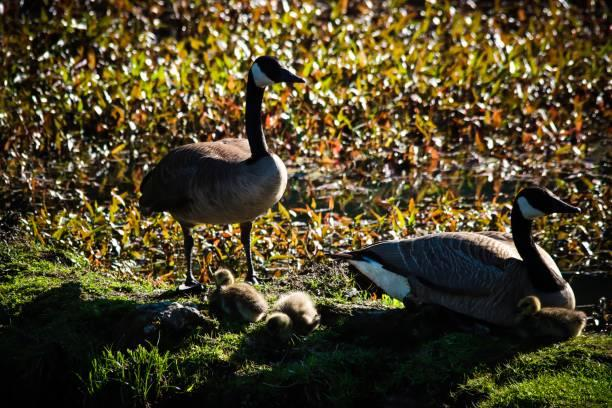Canadian-Goose: (137, 56, 306, 274), (338, 181, 592, 314), (509, 295, 589, 343), (265, 289, 323, 347), (208, 264, 267, 314)
